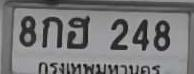2: (109, 18, 127, 49)
4: (131, 18, 148, 50)
8: (18, 15, 35, 46), (153, 19, 169, 50)
A01: (41, 16, 62, 47)
A44: (66, 15, 89, 48)
BKK: (35, 59, 164, 74)
